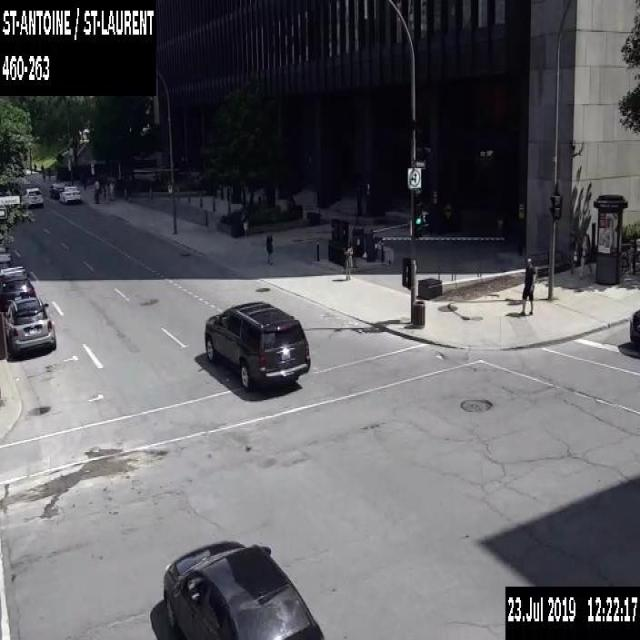pedestrian: (520, 256, 535, 315), (578, 234, 592, 278), (569, 232, 582, 276), (343, 238, 352, 278), (264, 229, 272, 264), (93, 176, 99, 203), (42, 166, 45, 180), (47, 168, 50, 181)
vehicle: (162, 537, 324, 639), (204, 298, 310, 391), (3, 295, 56, 360), (0, 276, 35, 310), (0, 265, 29, 283), (21, 185, 43, 208), (629, 307, 639, 348), (58, 185, 80, 202), (50, 181, 70, 198), (0, 251, 15, 269), (0, 242, 6, 253)
